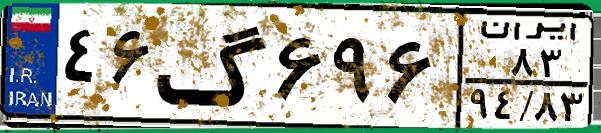3: (560, 70, 590, 125), (537, 27, 568, 80)
4: (57, 26, 110, 100), (495, 70, 520, 125)
6: (270, 28, 330, 110), (385, 28, 445, 110), (110, 28, 156, 98)
8: (508, 27, 537, 80), (535, 70, 560, 125)
9: (330, 28, 385, 110), (470, 70, 495, 125)
گ: (156, 12, 270, 120)
